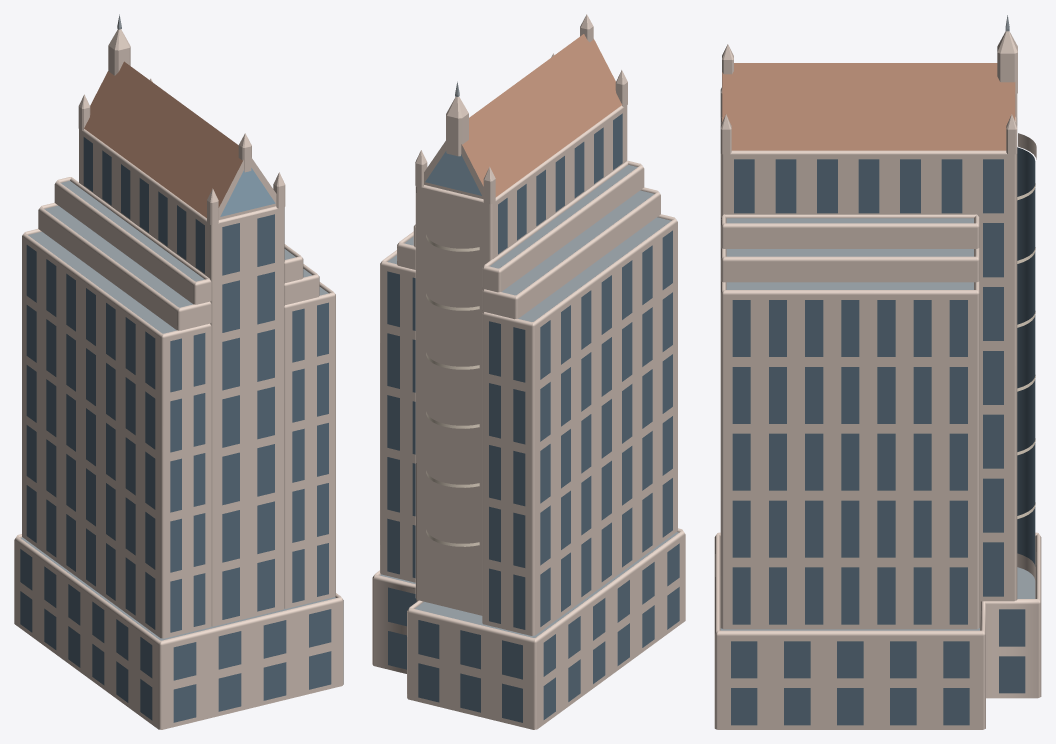
File: carillon-charlotte.glb
The picture shows the model from 3 angles, left to right: view 1: azimuth 30°, elevation 25°; view 2: azimuth 150°, elevation 25°; view 3: azimuth 270°, elevation 25°; orthographic projection. The views are drawn at different scales.
Visible parts, largest first — view 1: The Carillon; view 2: The Carillon; view 3: The Carillon.
Boxes of the visible parts, <box> form: The Carillon: <box>14,14,343,729</box>; The Carillon: <box>372,14,685,729</box>; The Carillon: <box>714,15,1041,729</box>.
Size of the model in its own units: 39.58 by 122 by 54.38.
